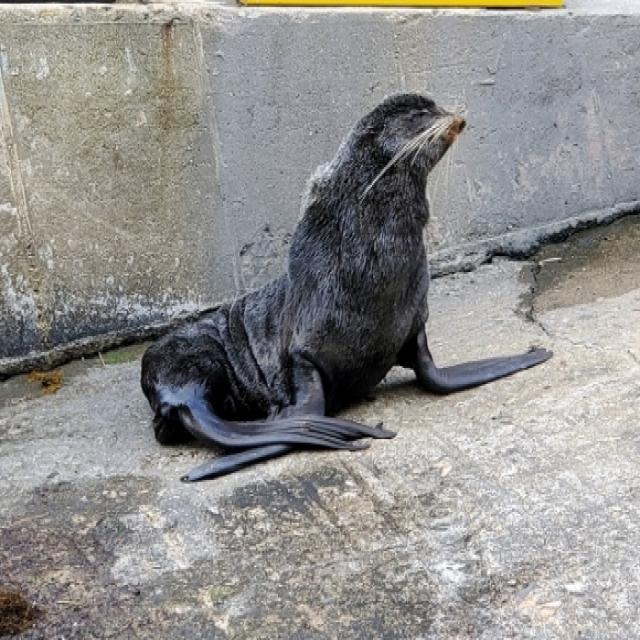WaterDog: (145, 82, 473, 478)
